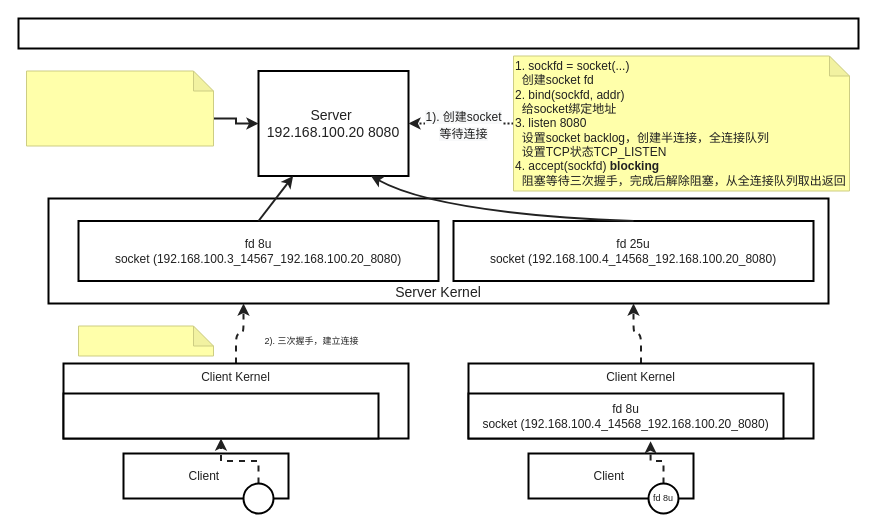
Some shapes in this 876 by 531 pixel diagram are drawn without their labels. Here are the shapes that lost their labels. From the top down, the centre of each, then its label:
point (438, 33): BIO
point (120, 108): 6. clone() 创建线程处理连接 7. 先线程调用 recv(fd) - 阻塞等待，直到有数据 - 或对端关闭，并读取所有数据
point (146, 340): 5. connect() blocking 发送SYNC，二次握手
point (220, 415): fd 4u socket (192.168.100.3_14567_192.168.100.20_8080)
point (258, 498): fd 4u
